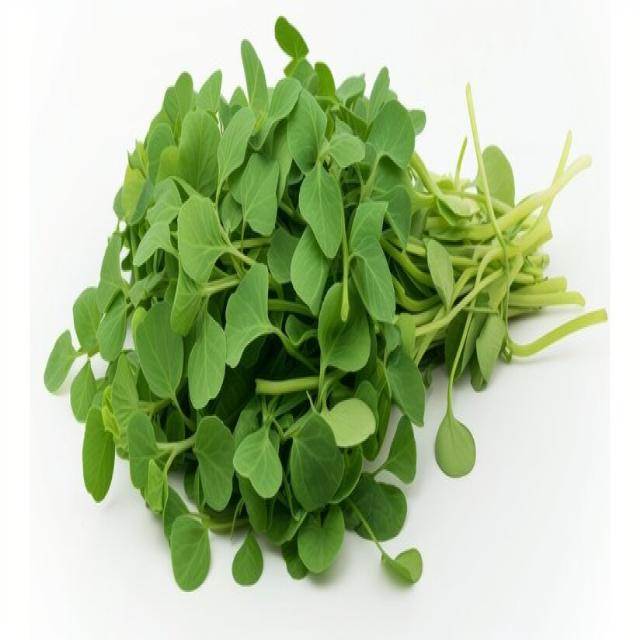Fenugreek: (51, 14, 615, 594)
